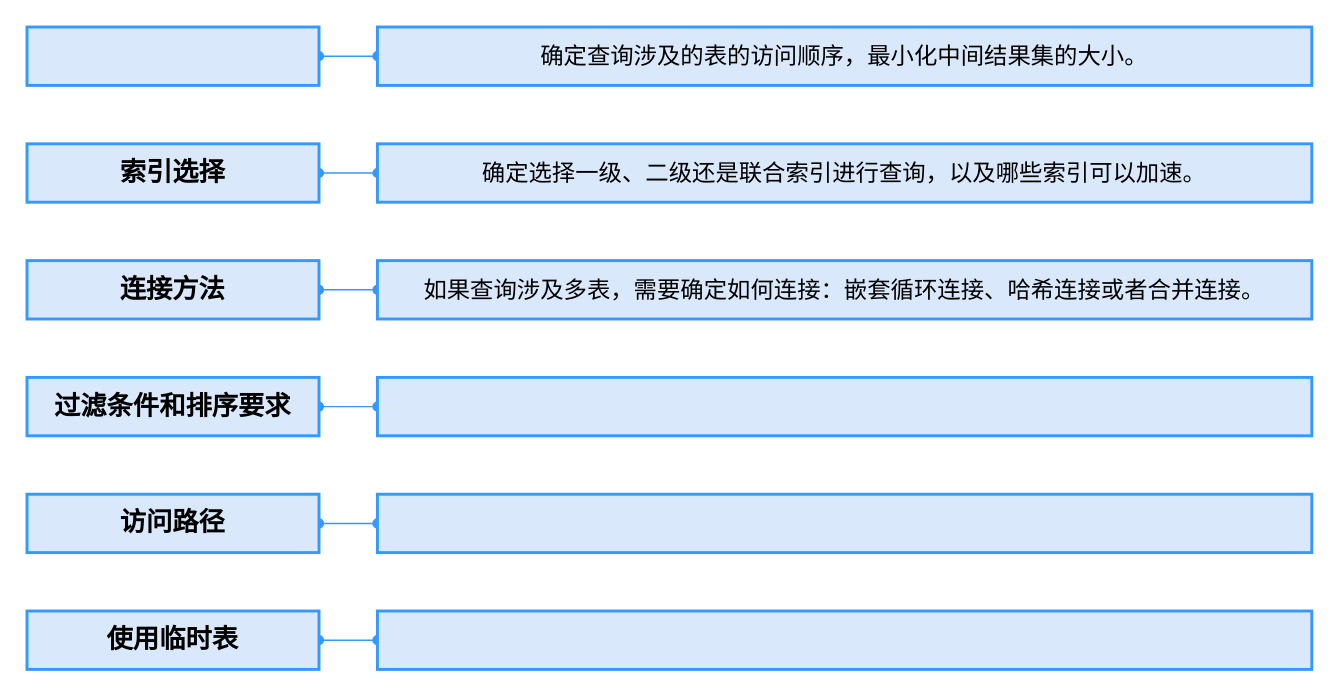
Image size: 1337x695. Some labels were removed from this diagram. Here are the shapes that lost their labels. From the top down, the centre of each, then its label:
At [172,55]: "表的访问顺序".
At [844,406]: "考虑过滤条件和排序要求，如何优化地应用这些条件。".
At [844,522]: "确定如何访问表的数据，访问顺序，索引查询或者全表扫描。".
At [844,639]: "确定是否需要创建和使用临时表来存储中间结果。".
